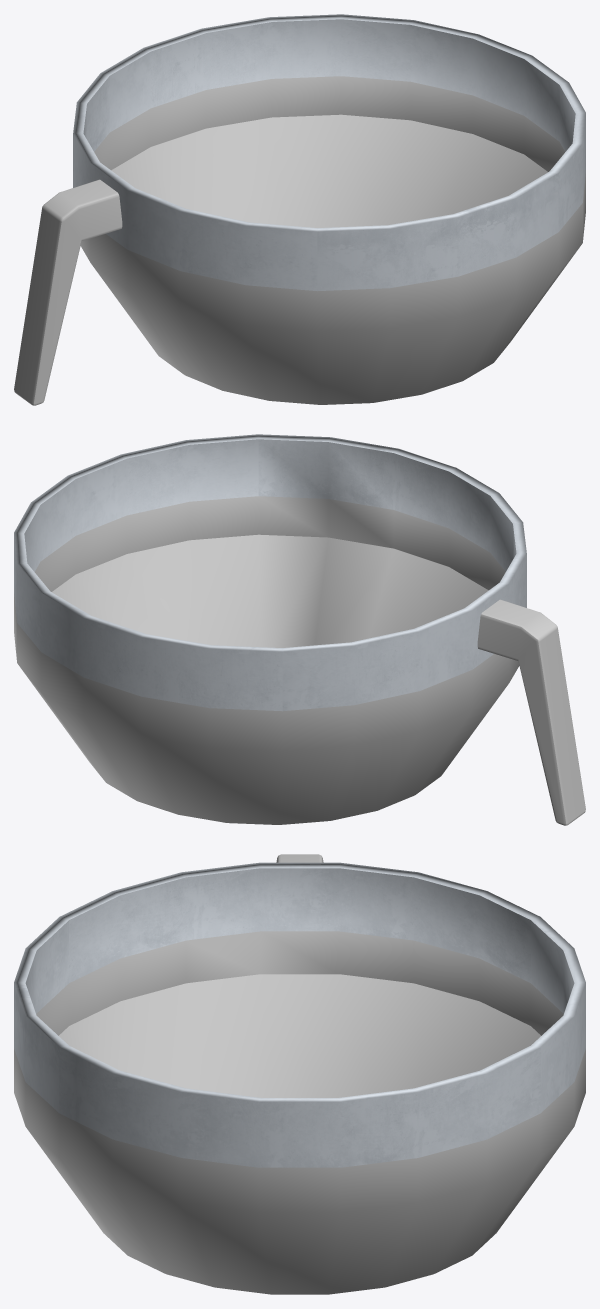
Rendered from SM_CoffeePot3.fbx.
3 views of the same model, one above another, from view 1: azimuth 30°, elevation 25°; view 2: azimuth 150°, elevation 25°; view 3: azimuth 270°, elevation 25° (orthographic). The views are drawn at different scales.
Visible parts, largest first — view 1: SM_CoffeePot3_LOD0; view 2: SM_CoffeePot3_LOD0; view 3: SM_CoffeePot3_LOD0.
Part boxes in pixels (x1,y1,x2,y2): SM_CoffeePot3_LOD0: (14,14,585,405); SM_CoffeePot3_LOD0: (14,434,585,825); SM_CoffeePot3_LOD0: (14,854,585,1294).
Size of the model in its own units: 28.84 by 24.39 by 10.66.
3 materials, 1 textured.
